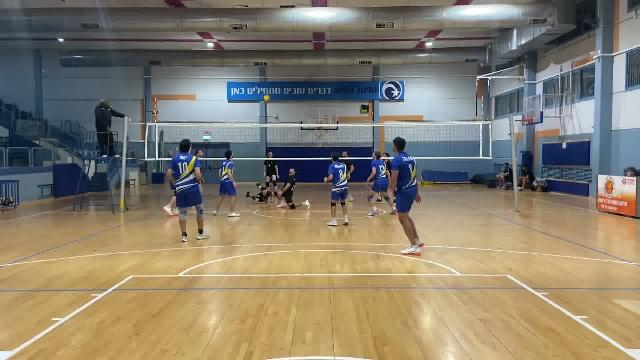ball: (261, 93, 271, 103)
